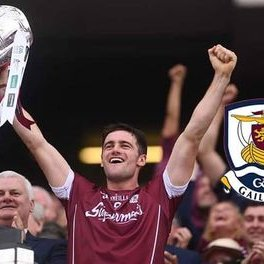player: (43, 122, 177, 261)
